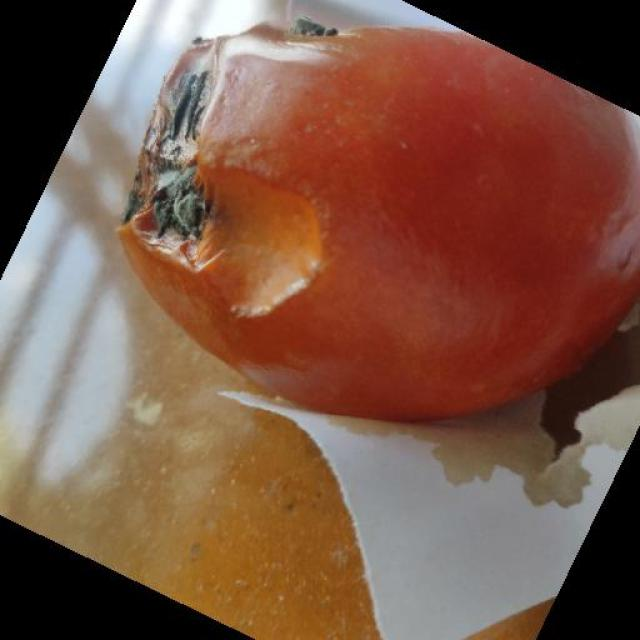Stale_tomato: (134, 35, 640, 381)
